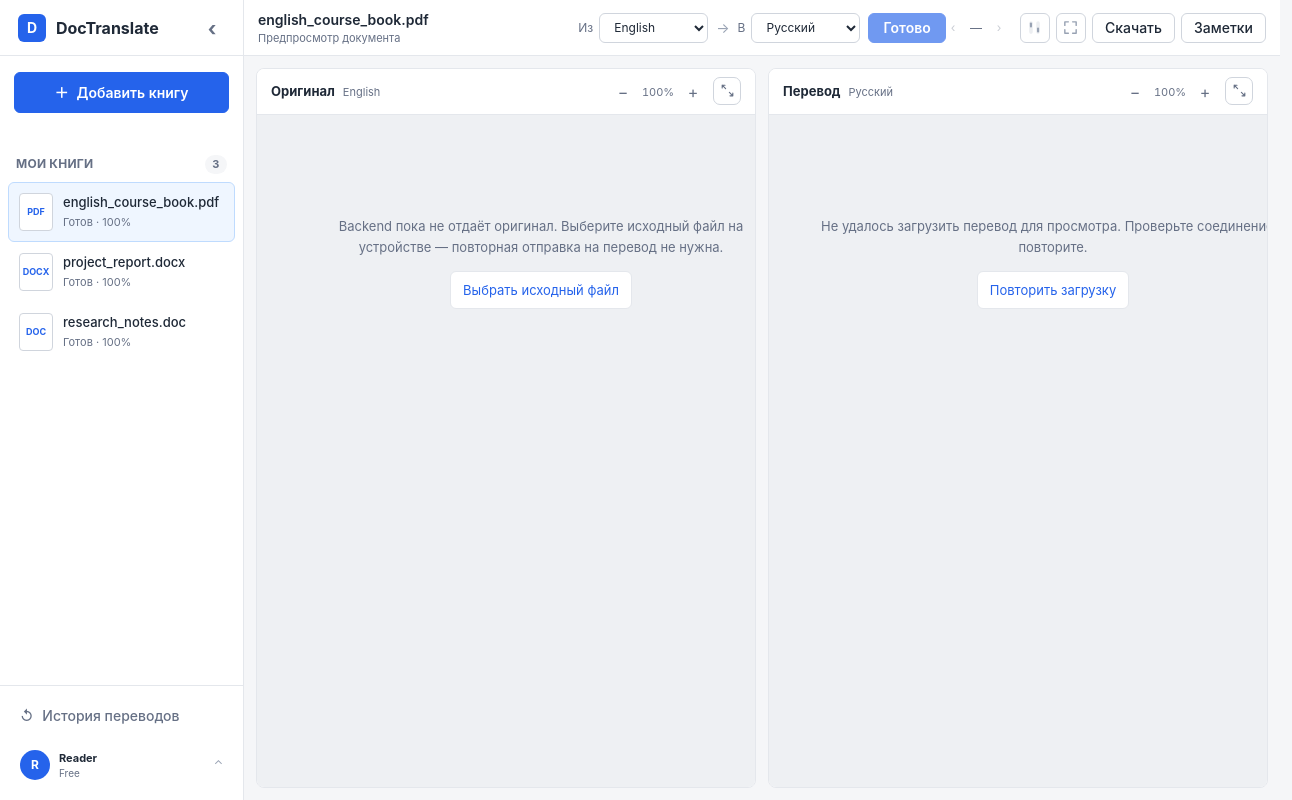
workspace interactions › keeps allowance information only on the plans page, not in the sidebar
expect the element named "Прокрутка панели «Оригинал»" is shown: met, box [257, 115, 755, 787]
expect the text "Осталось переводов: 7" is not shown: met
Click the button with aria-label "Открыть меню пользователя".
click(122, 765)  # box [10, 740, 233, 790]
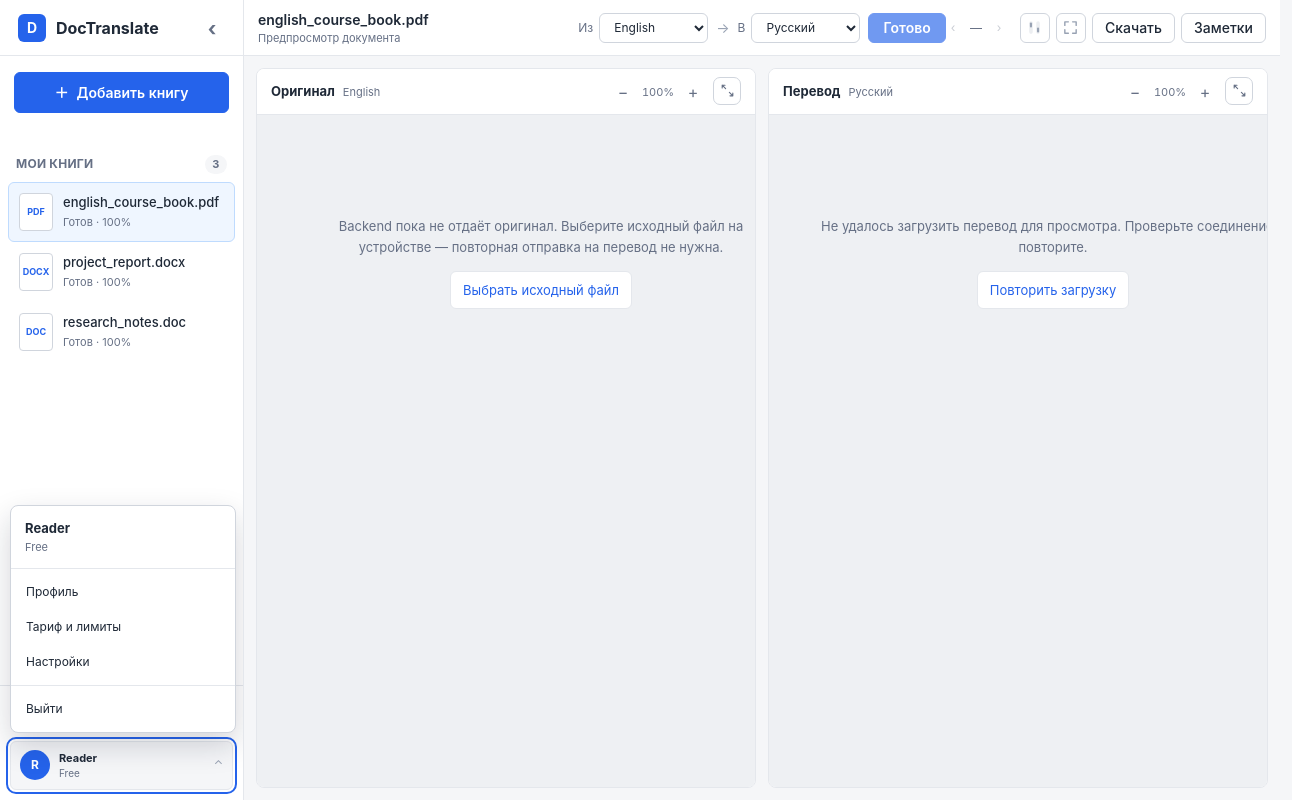
Click the menu item "Тариф и лимиты".
click(74, 626)  # box [26, 618, 121, 634]
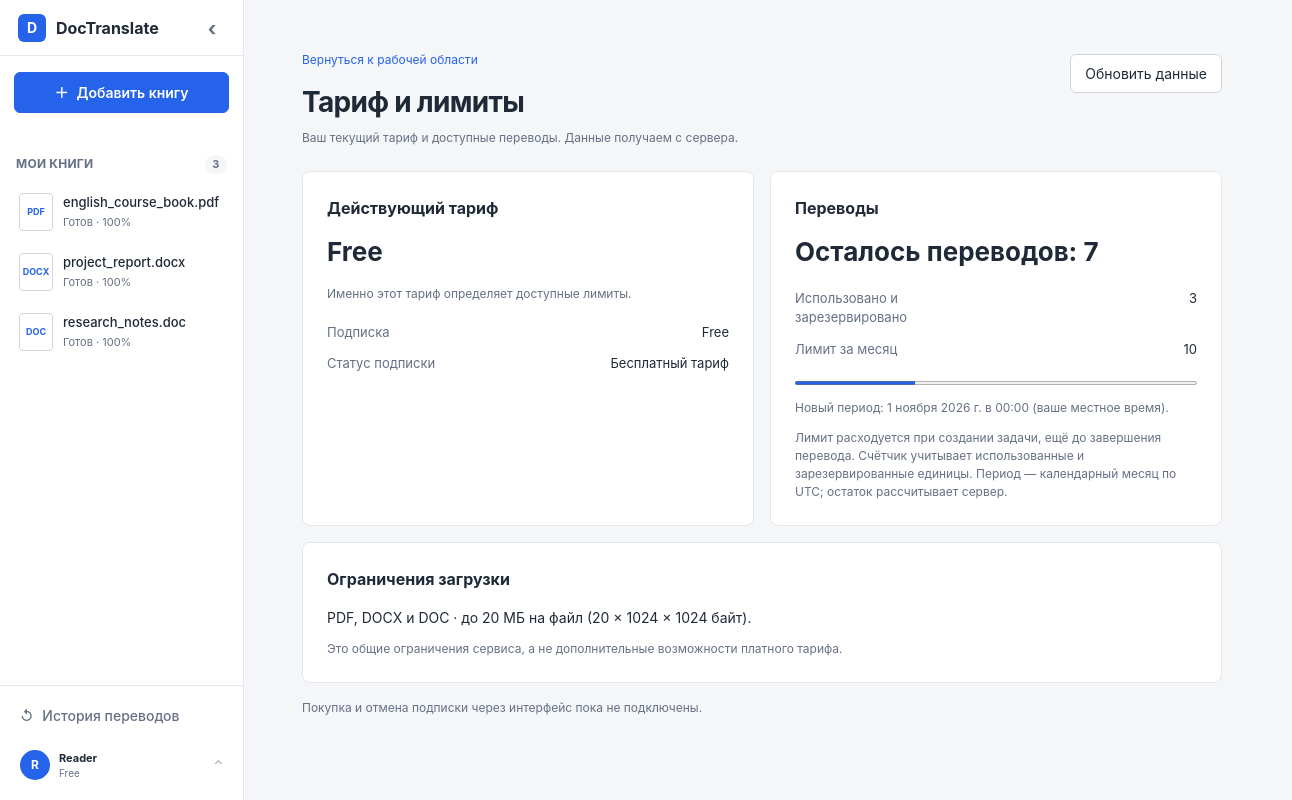
expect the text "Осталось переводов: 7" is shown: met, box [795, 236, 1099, 267]
